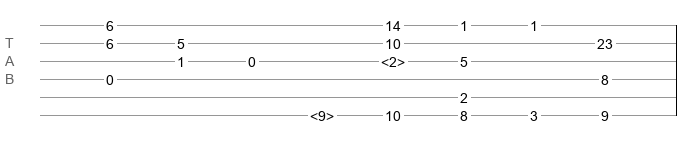0: (106, 72, 114, 82), (248, 54, 256, 64)
1: (177, 54, 185, 64), (460, 18, 468, 28), (530, 18, 538, 28)
10: (385, 108, 401, 118), (385, 36, 401, 46)
14: (385, 18, 401, 28)
2: (460, 90, 468, 100)
23: (597, 36, 613, 46)
3: (530, 108, 538, 118)
5: (177, 36, 185, 46), (460, 54, 468, 64)
6: (106, 36, 114, 46), (106, 18, 114, 28)
8: (460, 108, 468, 118), (601, 72, 609, 82)
9: (601, 108, 609, 118)
harmonic: (310, 108, 334, 118), (381, 54, 405, 64)
